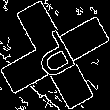P_SE: (27, 24, 83, 86)
